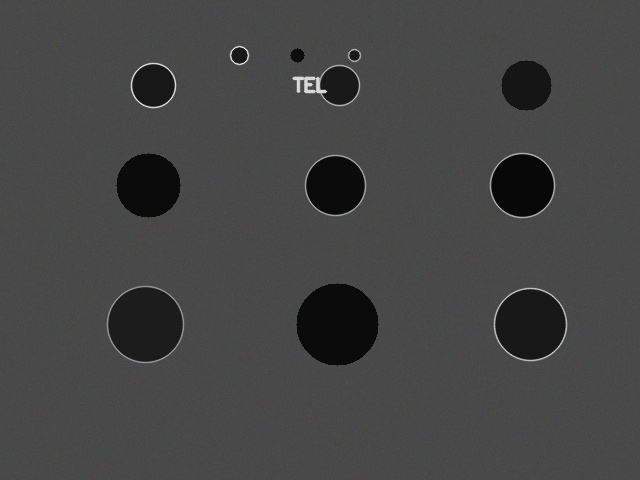hole: (296, 283, 378, 365), (107, 286, 183, 362), (494, 288, 566, 360), (116, 153, 180, 217), (490, 153, 554, 217), (305, 155, 365, 215), (501, 60, 551, 110), (131, 63, 175, 107), (319, 65, 359, 105), (230, 46, 248, 64), (290, 48, 304, 62), (348, 49, 360, 61)
